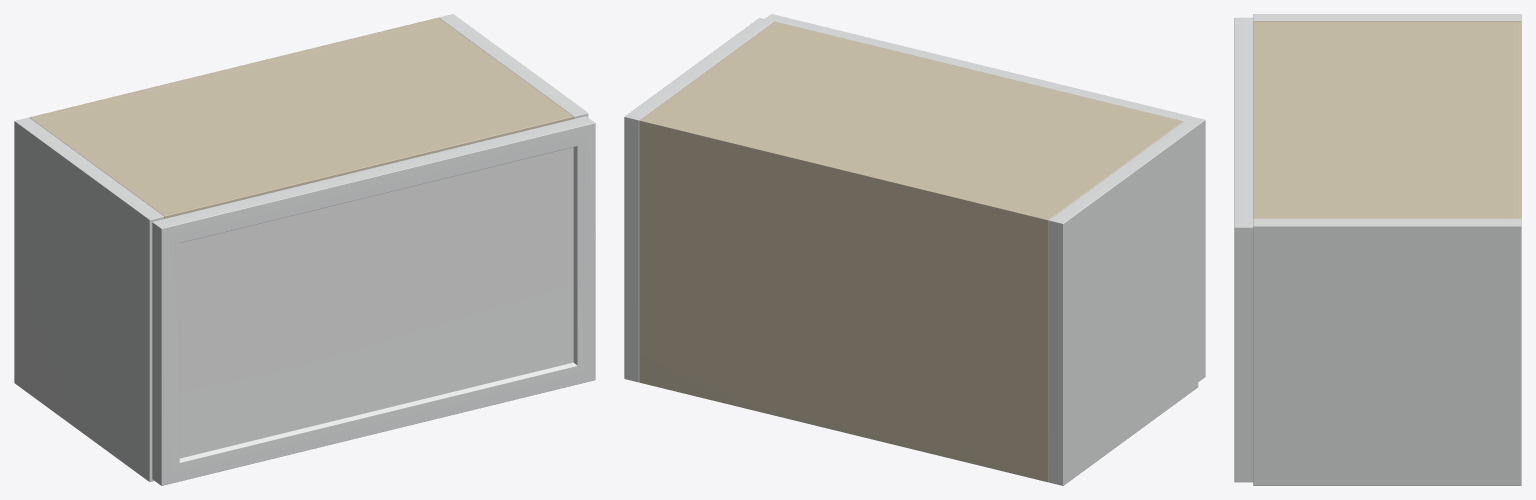
File: oppein-ply-ssw-w2112.glb
3 renders of one model, left to right at view 1: azimuth 30°, elevation 25°; view 2: azimuth 150°, elevation 25°; view 3: azimuth 270°, elevation 25°, orthographic.
Parts seen in each view (by area): view 1: Door, Cabinet top, Cabinet side, Cabinet back, Cabinet side.001; view 2: Cabinet back, Cabinet top, Cabinet side, Cabinet side.001, Door, Cabinet bottom; view 3: Cabinet side.001, Cabinet top, Door, Cabinet back, Cabinet side.
Part boxes in pixels (box(x1,y1,x2,y2)): Door: box(152, 116, 595, 485); Cabinet top: box(34, 18, 573, 218); Cabinet side: box(14, 117, 164, 481); Cabinet back: box(29, 17, 442, 121); Cabinet side.001: box(439, 14, 588, 118); Cabinet back: box(639, 116, 1053, 482); Cabinet top: box(639, 21, 1183, 234); Cabinet side: box(1048, 121, 1198, 485); Cabinet side.001: box(624, 18, 773, 382); Door: box(765, 14, 1205, 381); Cabinet bottom: box(639, 377, 1048, 482); Cabinet side.001: box(1253, 219, 1521, 485); Cabinet top: box(1253, 21, 1520, 218); Door: box(1234, 17, 1253, 482); Cabinet back: box(1510, 21, 1521, 219); Cabinet side: box(1253, 14, 1521, 21).
Size of the model in its own units: 0.5334 by 0.3048 by 0.3048.
